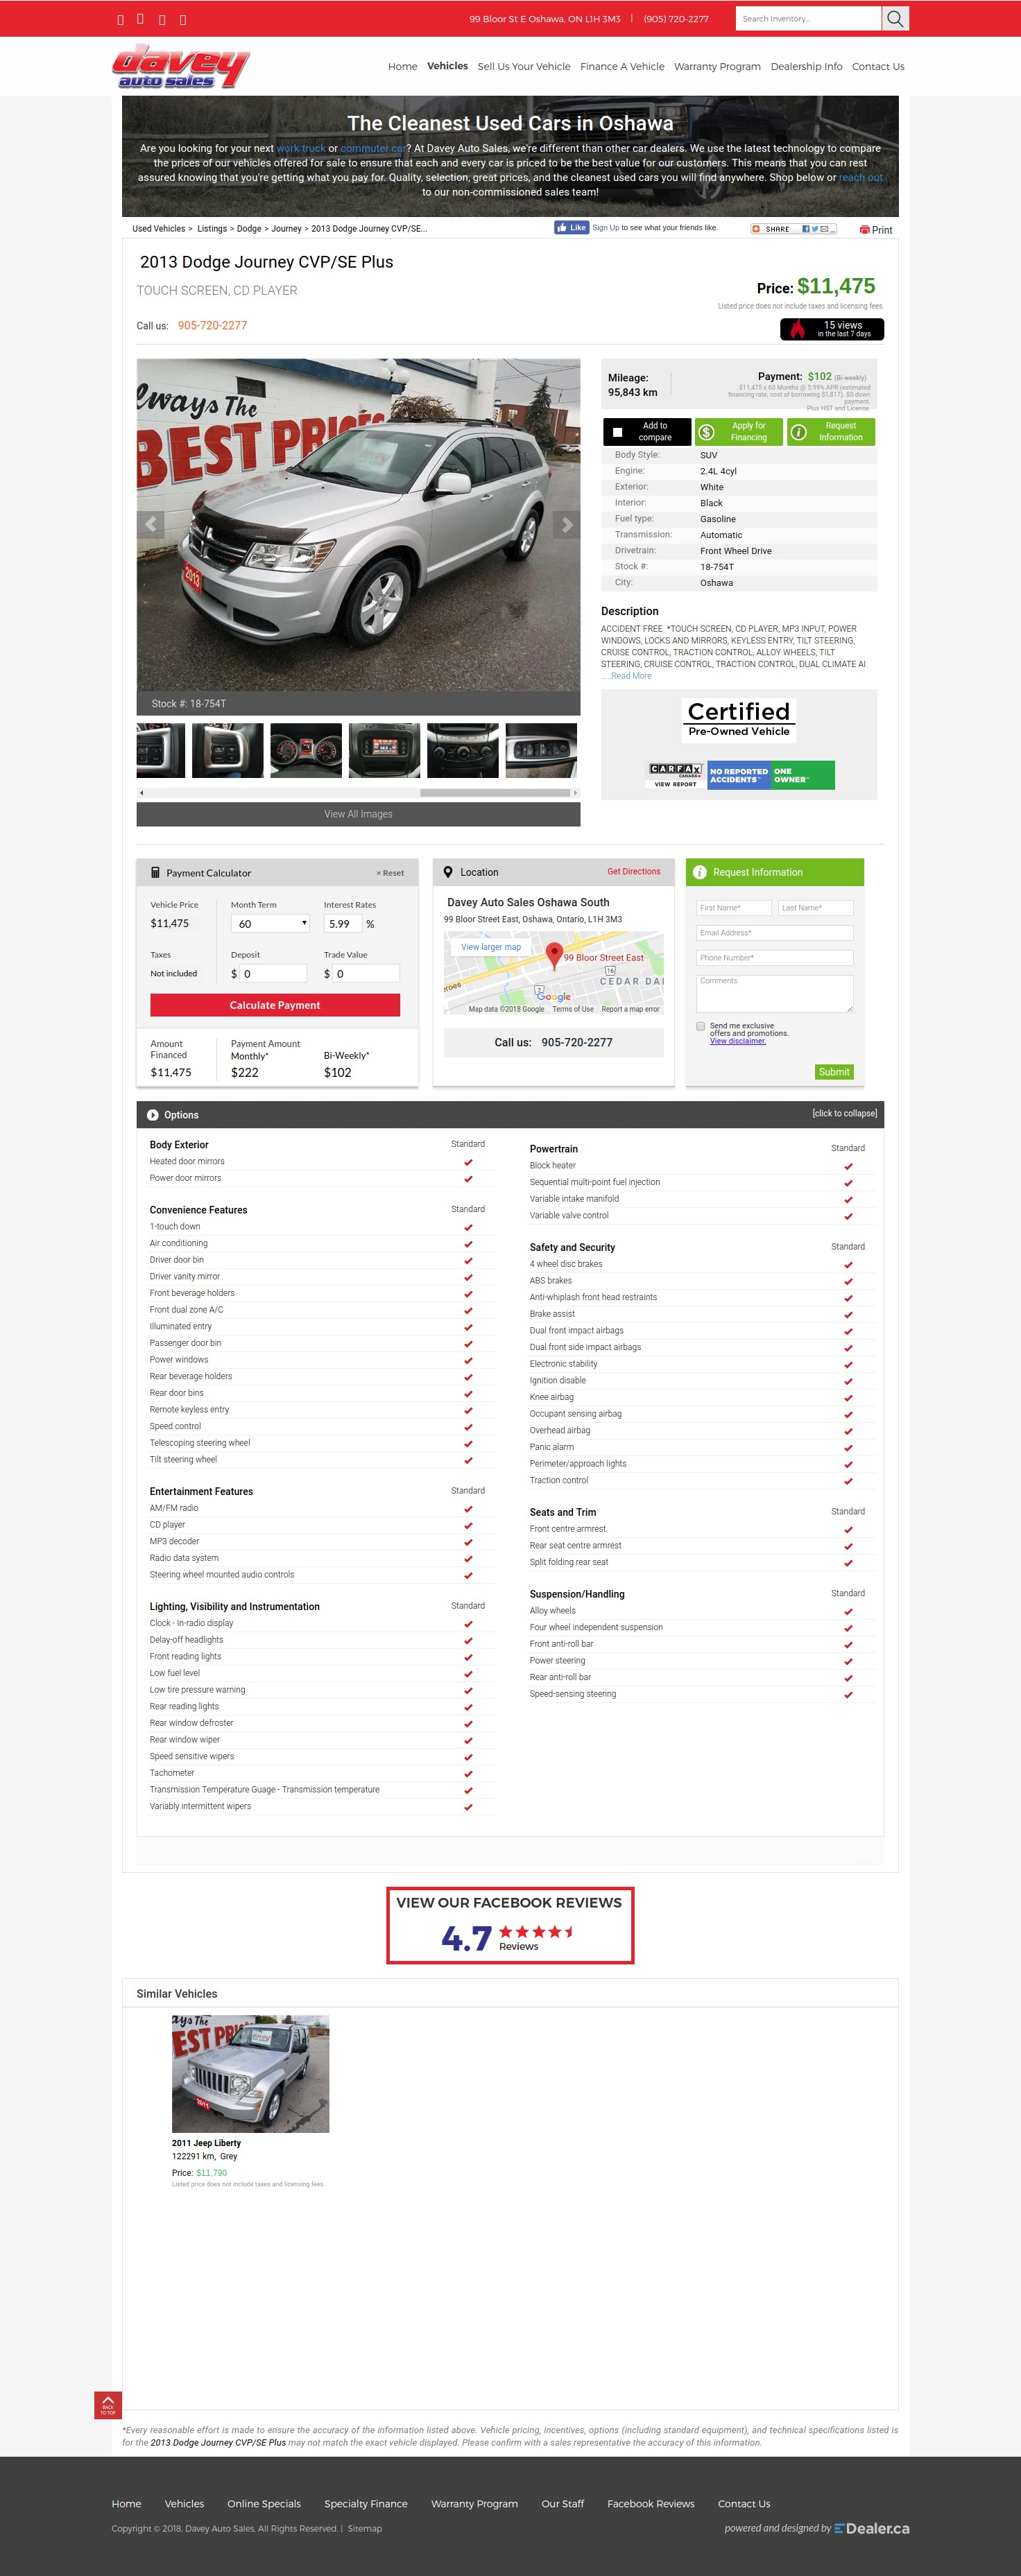car: (552, 509, 582, 540)
